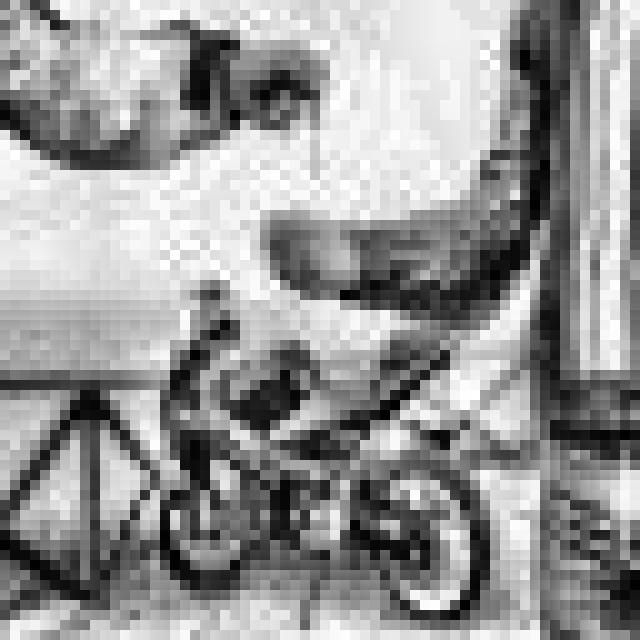mopeds: (142, 262, 502, 620)
